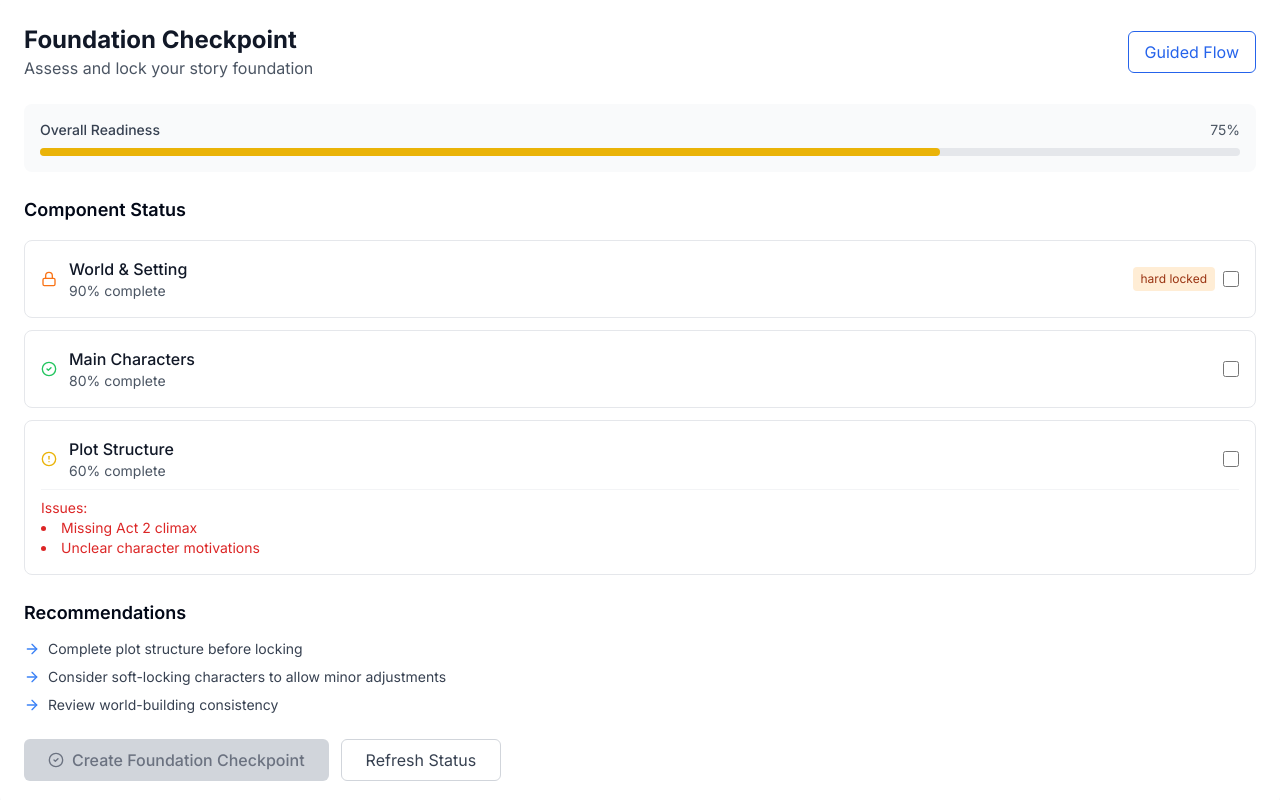
FoundationCheckpoint › Guided Flow Mode › toggles between guided flow and manual mode
Click the button "Guided Flow" at (1192, 52), box [1128, 31, 1256, 73]
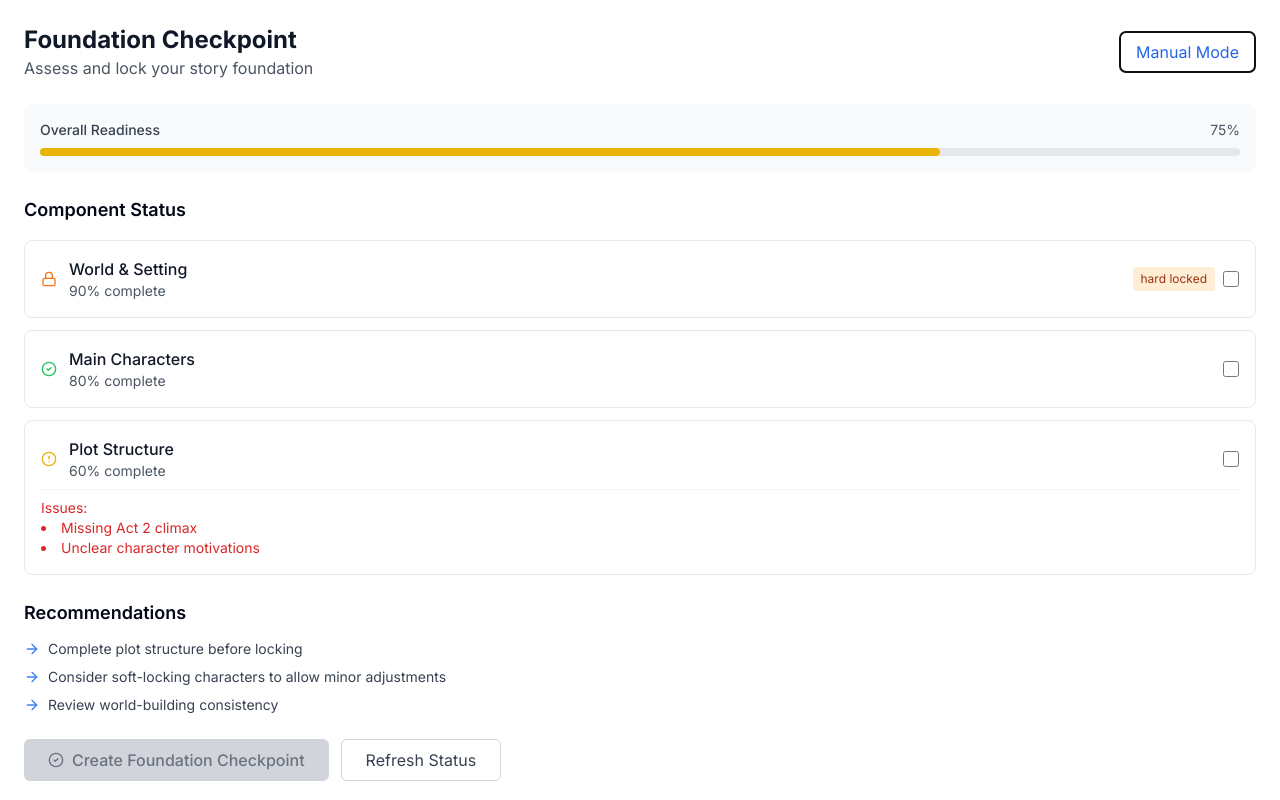
Expected: the button "Manual Mode" is shown, [1119, 31, 1256, 73]
